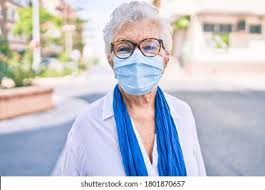mask: (107, 54, 173, 98)
social distancing: (96, 2, 202, 154)
